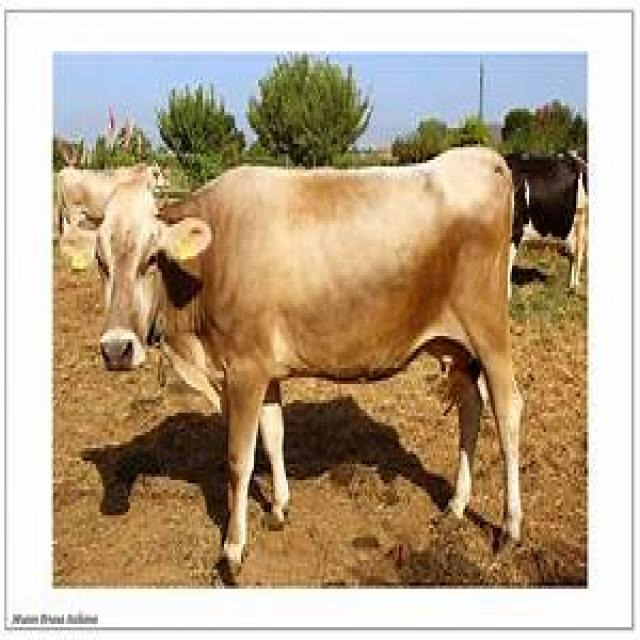cow: (64, 147, 527, 586)
